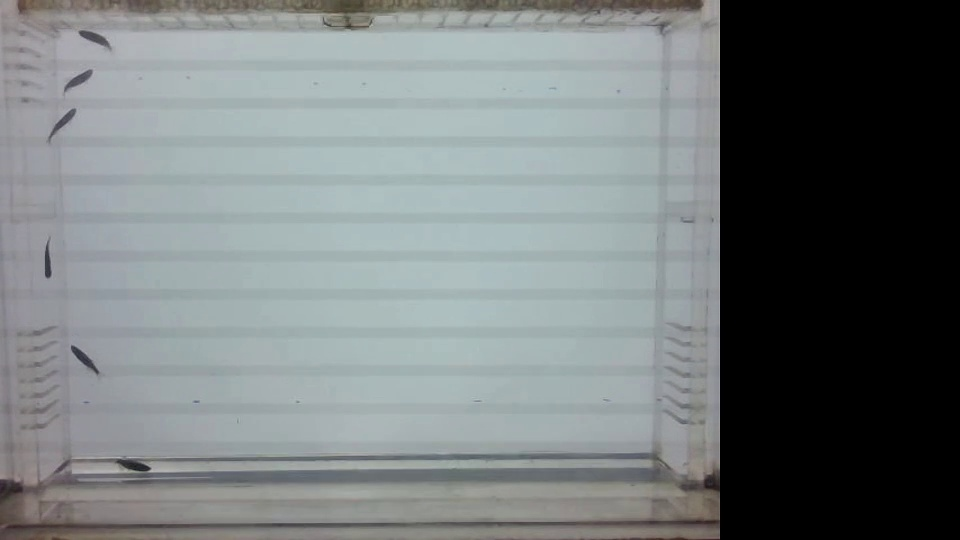fish: (60, 345, 108, 384), (33, 232, 62, 288), (40, 105, 80, 145), (72, 24, 120, 53), (56, 64, 96, 96), (109, 452, 160, 476)
